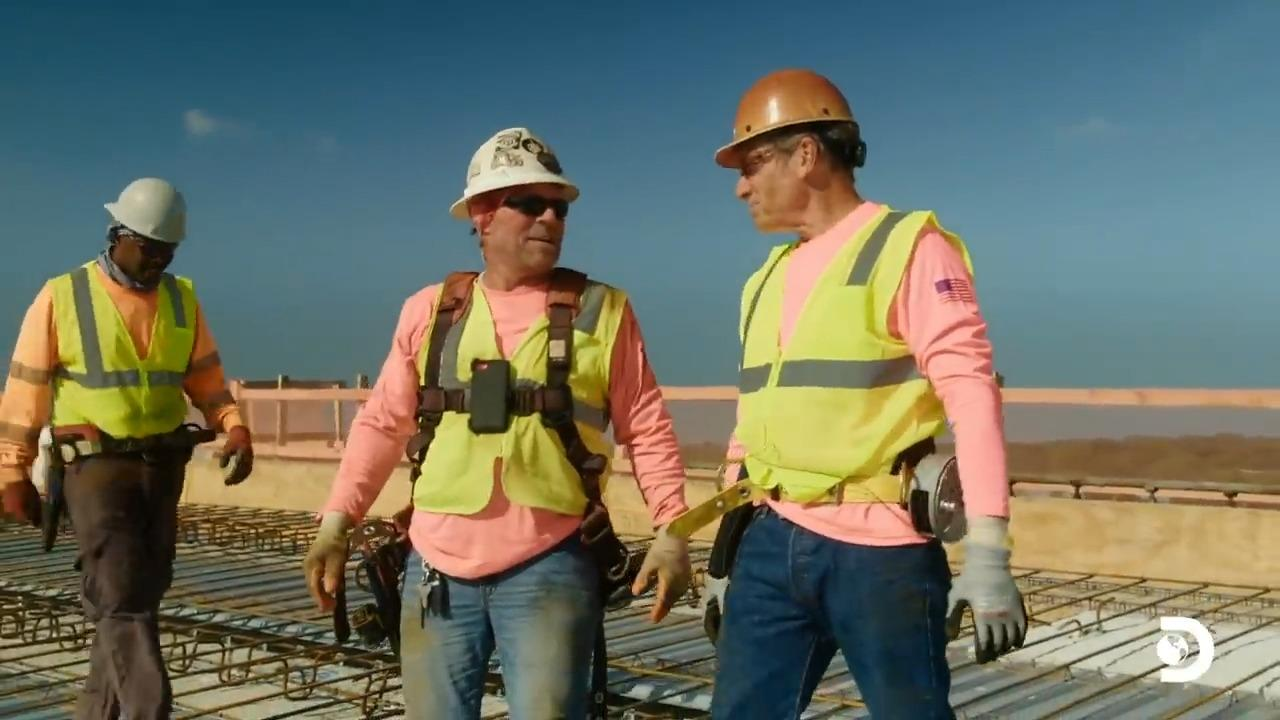Gloves: (951, 566, 1032, 664), (635, 517, 693, 610), (292, 524, 346, 607), (211, 419, 254, 481), (0, 471, 43, 523)
Helmet: (714, 68, 862, 168), (449, 126, 579, 219), (103, 176, 186, 244)
Person: (302, 125, 693, 719), (703, 67, 1028, 719), (0, 176, 254, 719)
Safety Vest: (752, 269, 943, 501), (419, 296, 601, 504), (46, 281, 196, 435)
